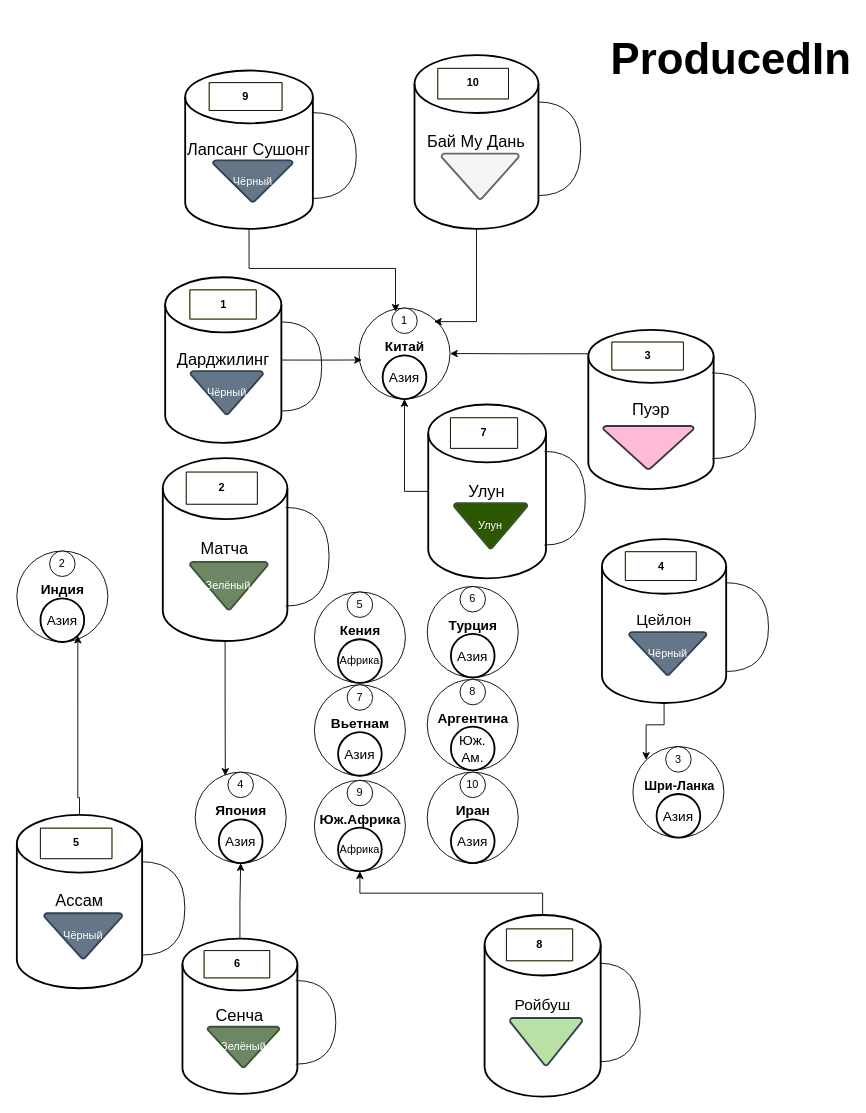
Some shapes in this 866 by 1113 pixel diagram are drawn without their labels. Each missing label, with the centre of its shape:
"Белый" goes at (479,176).
"Травяной" goes at (546,1041).
"Фермен- тированный" goes at (648,447).
